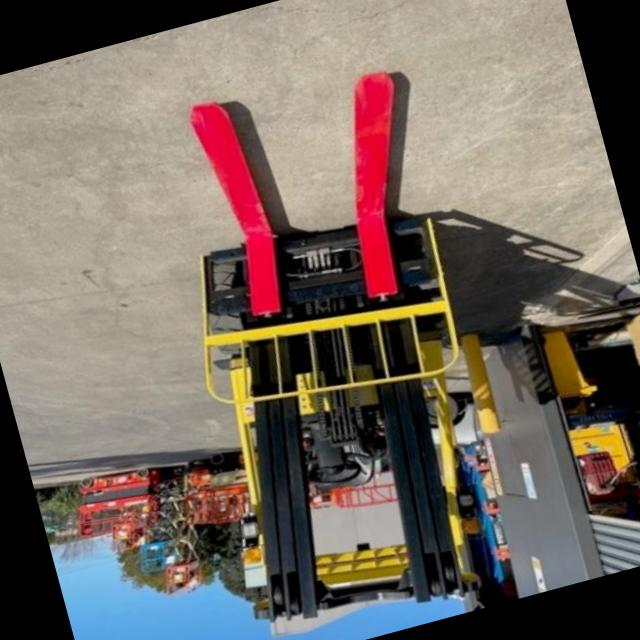forklift: (130, 157, 563, 640)
